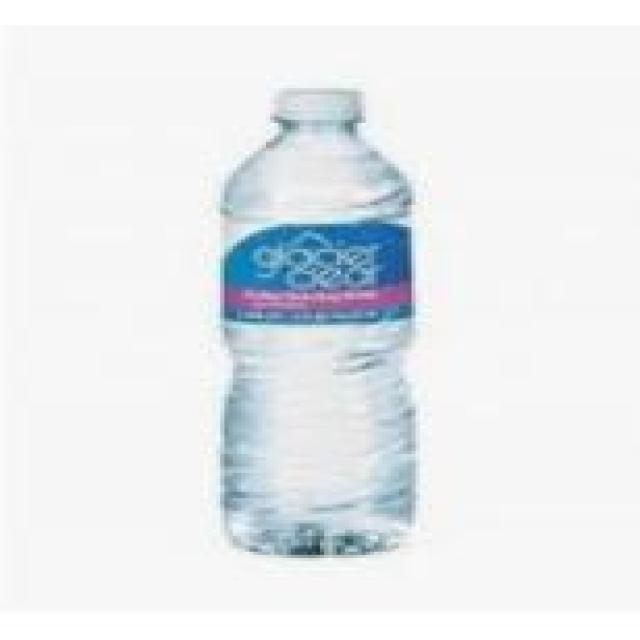bottle: (204, 80, 432, 569)
